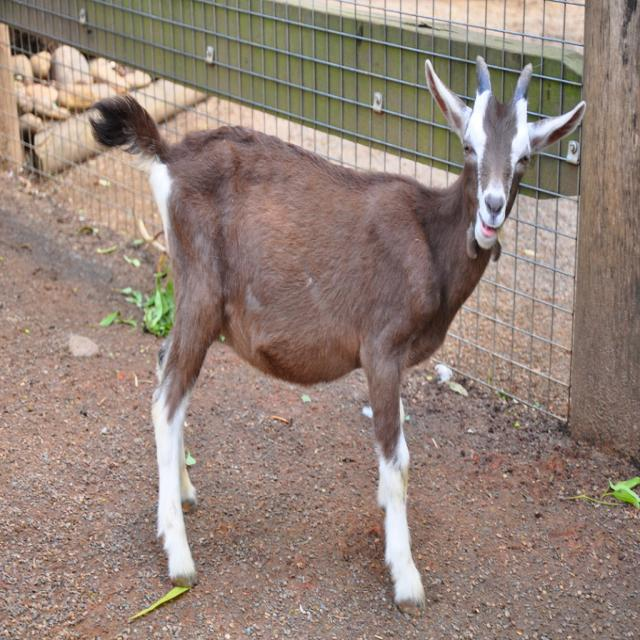Goat: (89, 55, 479, 617)
